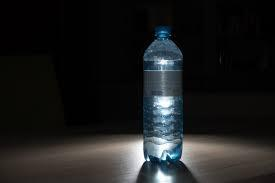Plastic bottle: (131, 23, 191, 161)
